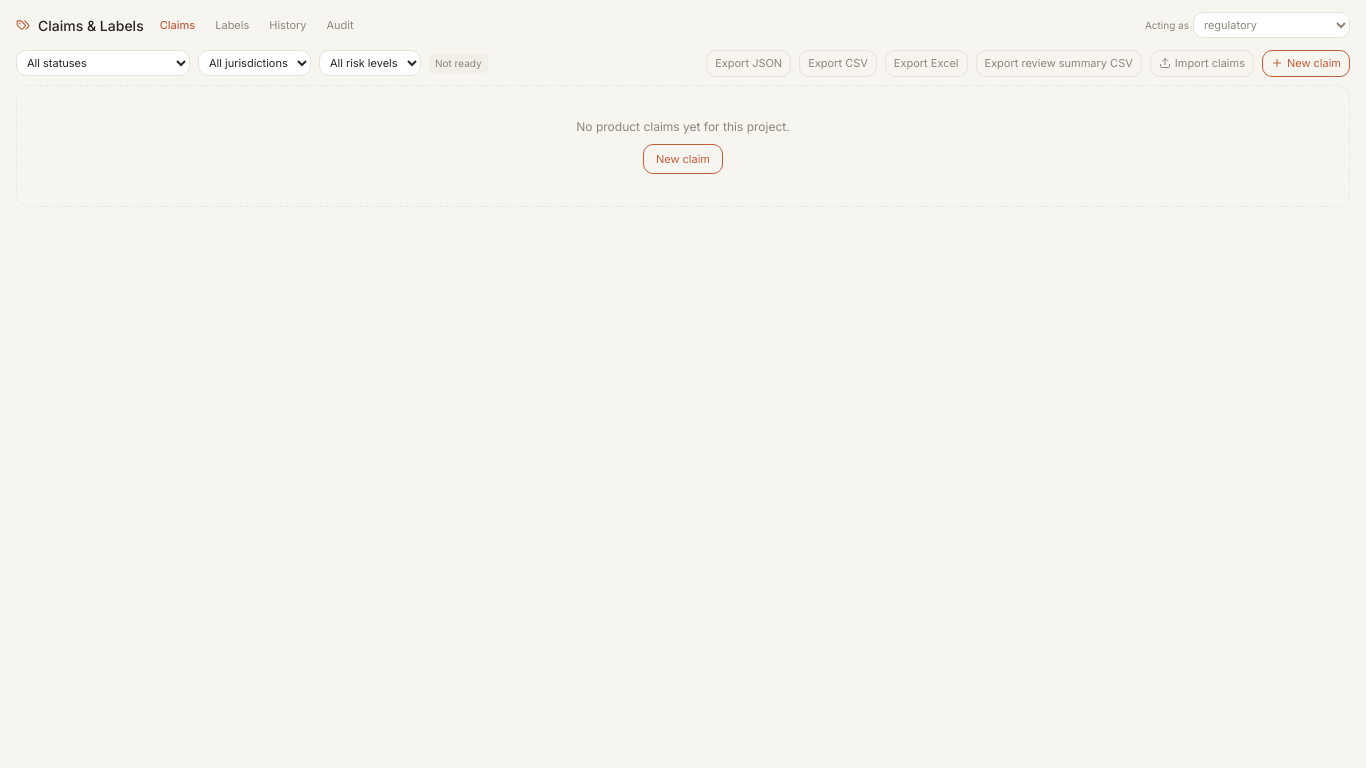
Test: ClaimsLabelsPanel — claim creation › requires a jurisdiction and claim text before creating a claim
The image size is (1366, 768).
Click the button "New claim" in the row of "Not ready" at (1306, 63), box [1262,50,1350,76]
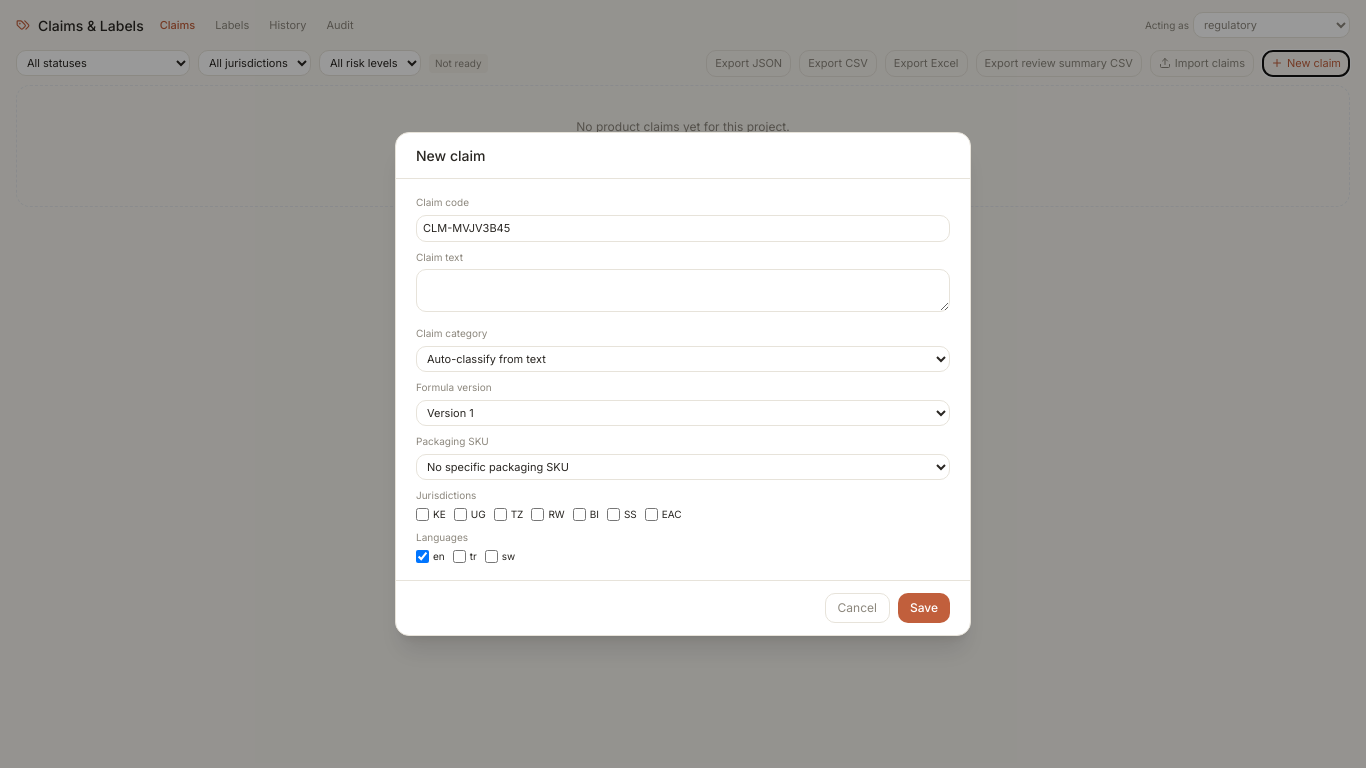
Select "Version 1" in the dropdown labelled "Formula version" at (683, 413), box [416,400,950,426]
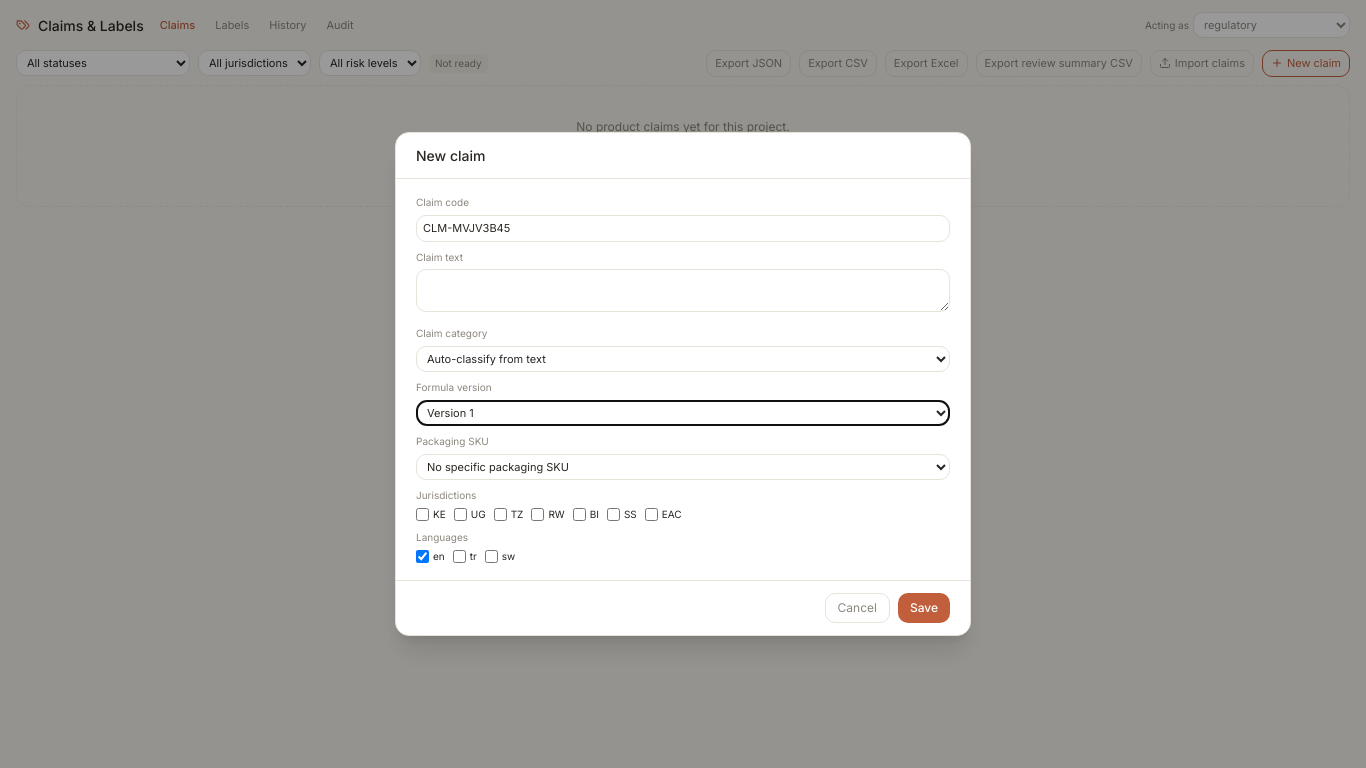
Click the button "Save" at (924, 608), box [898,593,950,623]
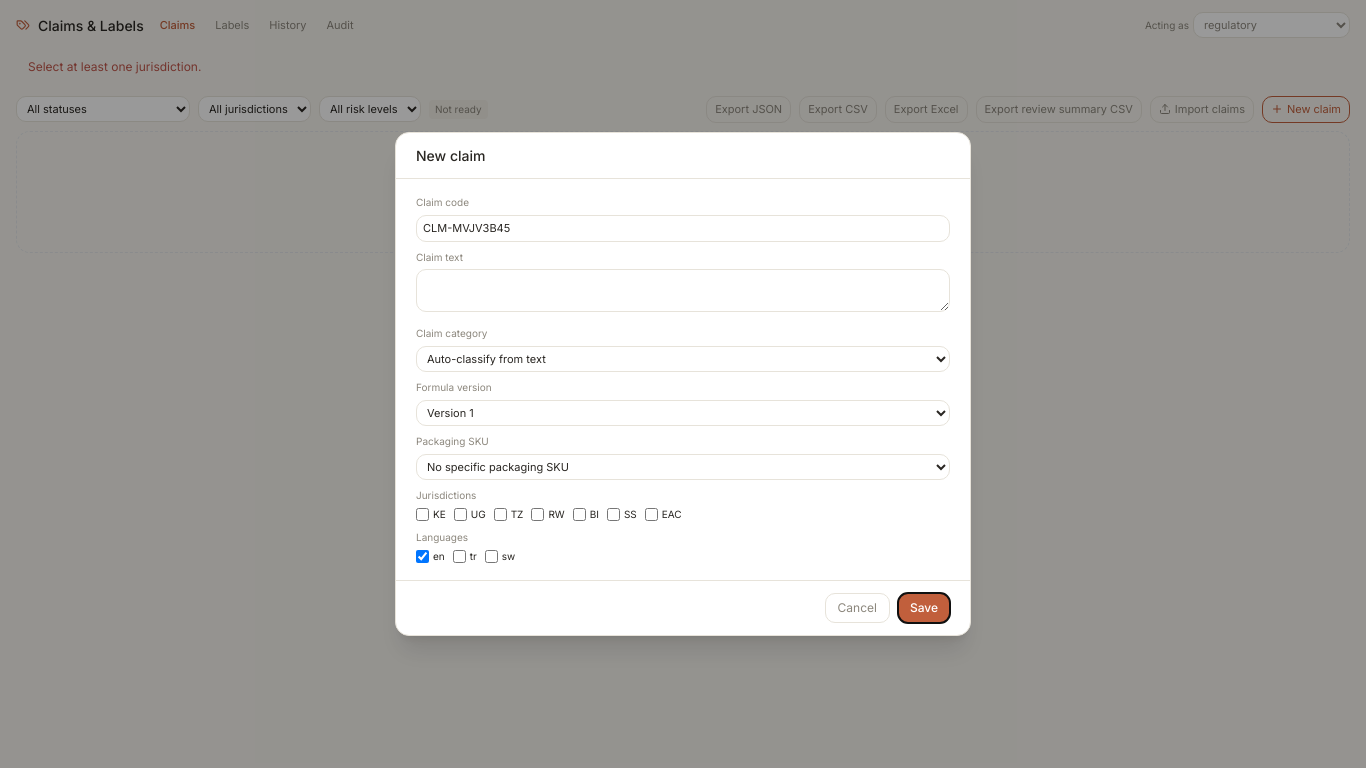
Check: the text "Select at least one jurisdiction." is shown, box [28,59,201,74]
Click the checkbox labelled "KE" at (422, 514), box [416,508,429,521]
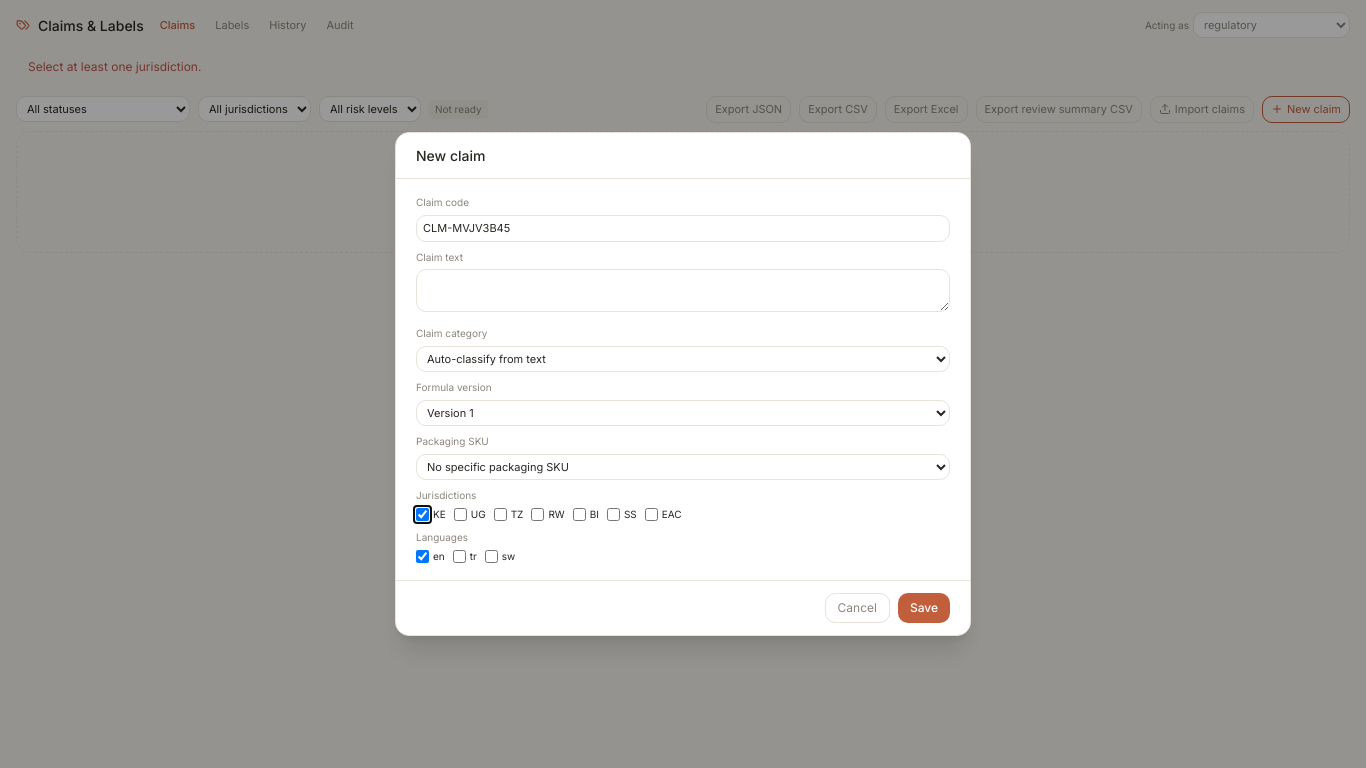
Click the button "Save" at (924, 608), box [898,593,950,623]
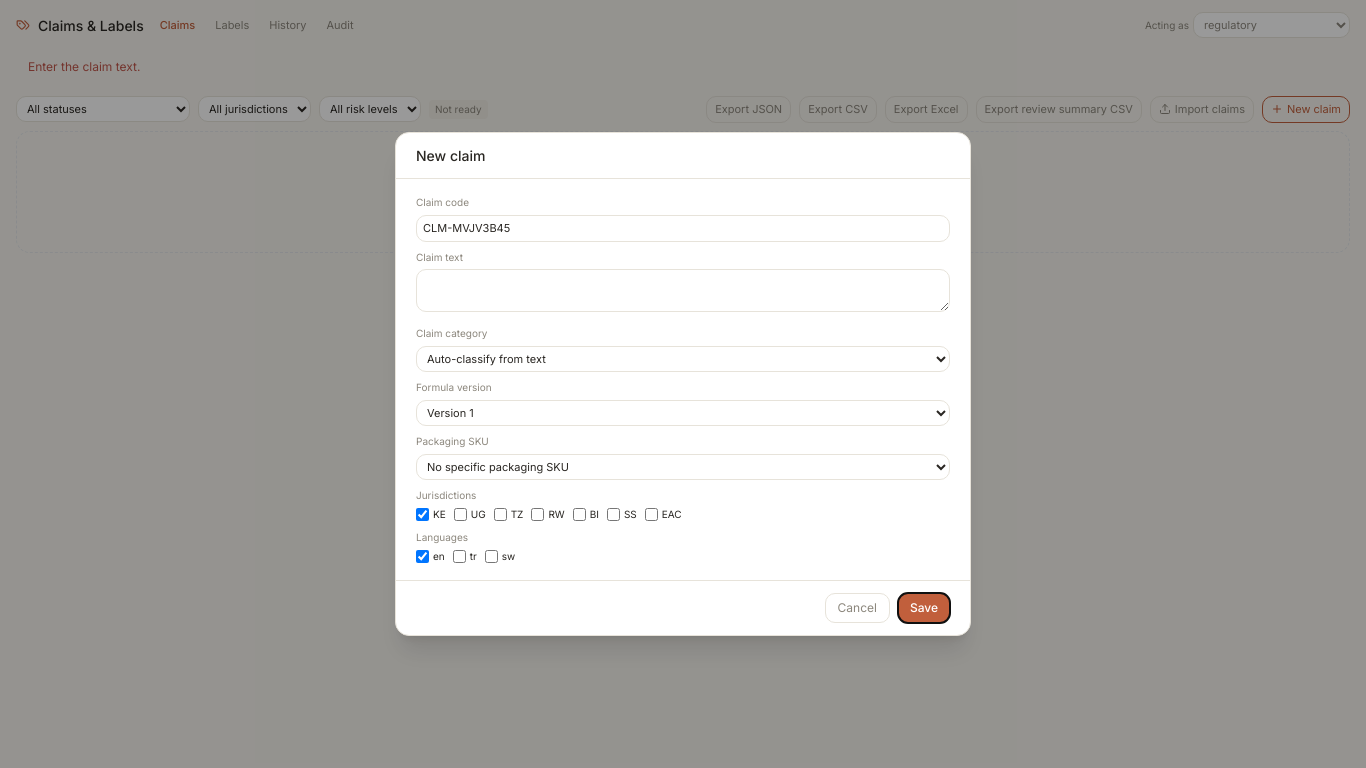
Check: the text "Enter the claim text." is shown, box [28,59,140,74]
